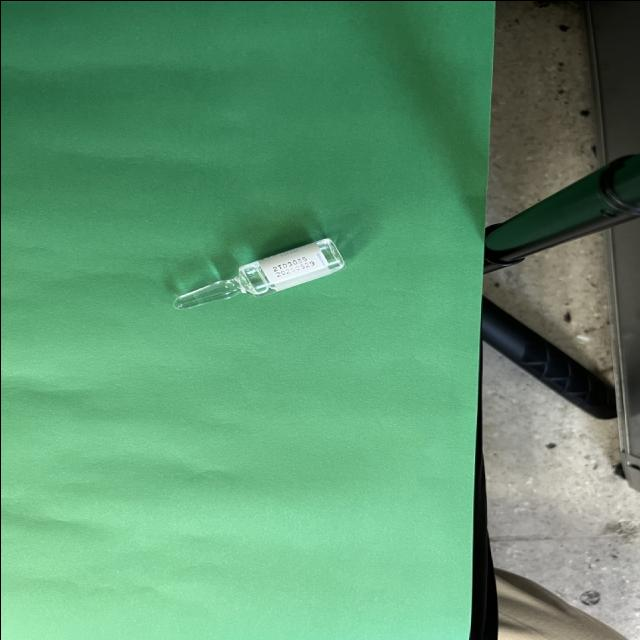Ampoules: (173, 236, 345, 308)
